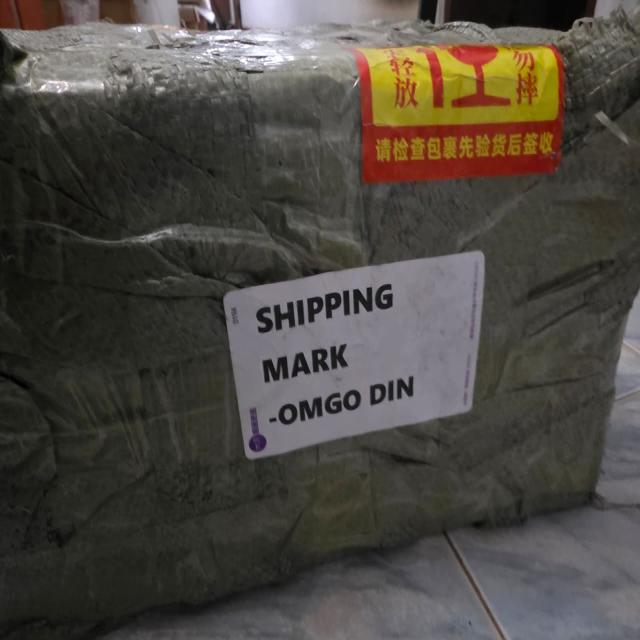export_mark_label: (211, 278, 512, 457)
